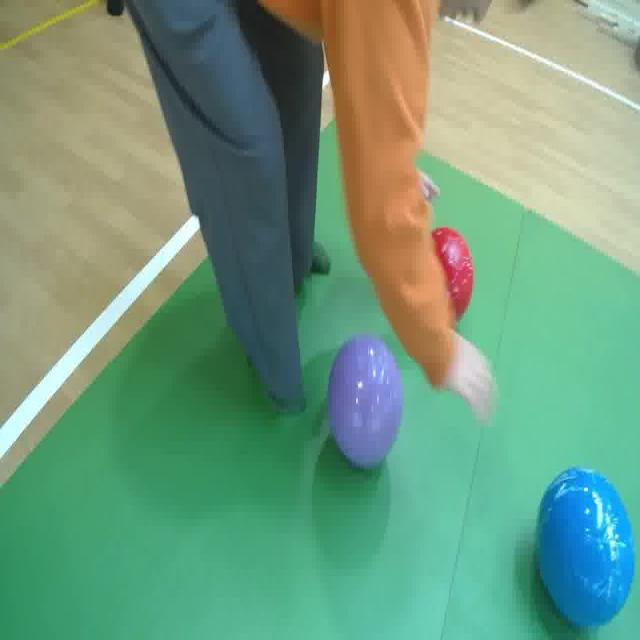blue_ball: (536, 462, 640, 640)
purple_ball: (326, 334, 405, 466)
red_ball: (424, 227, 474, 323)
